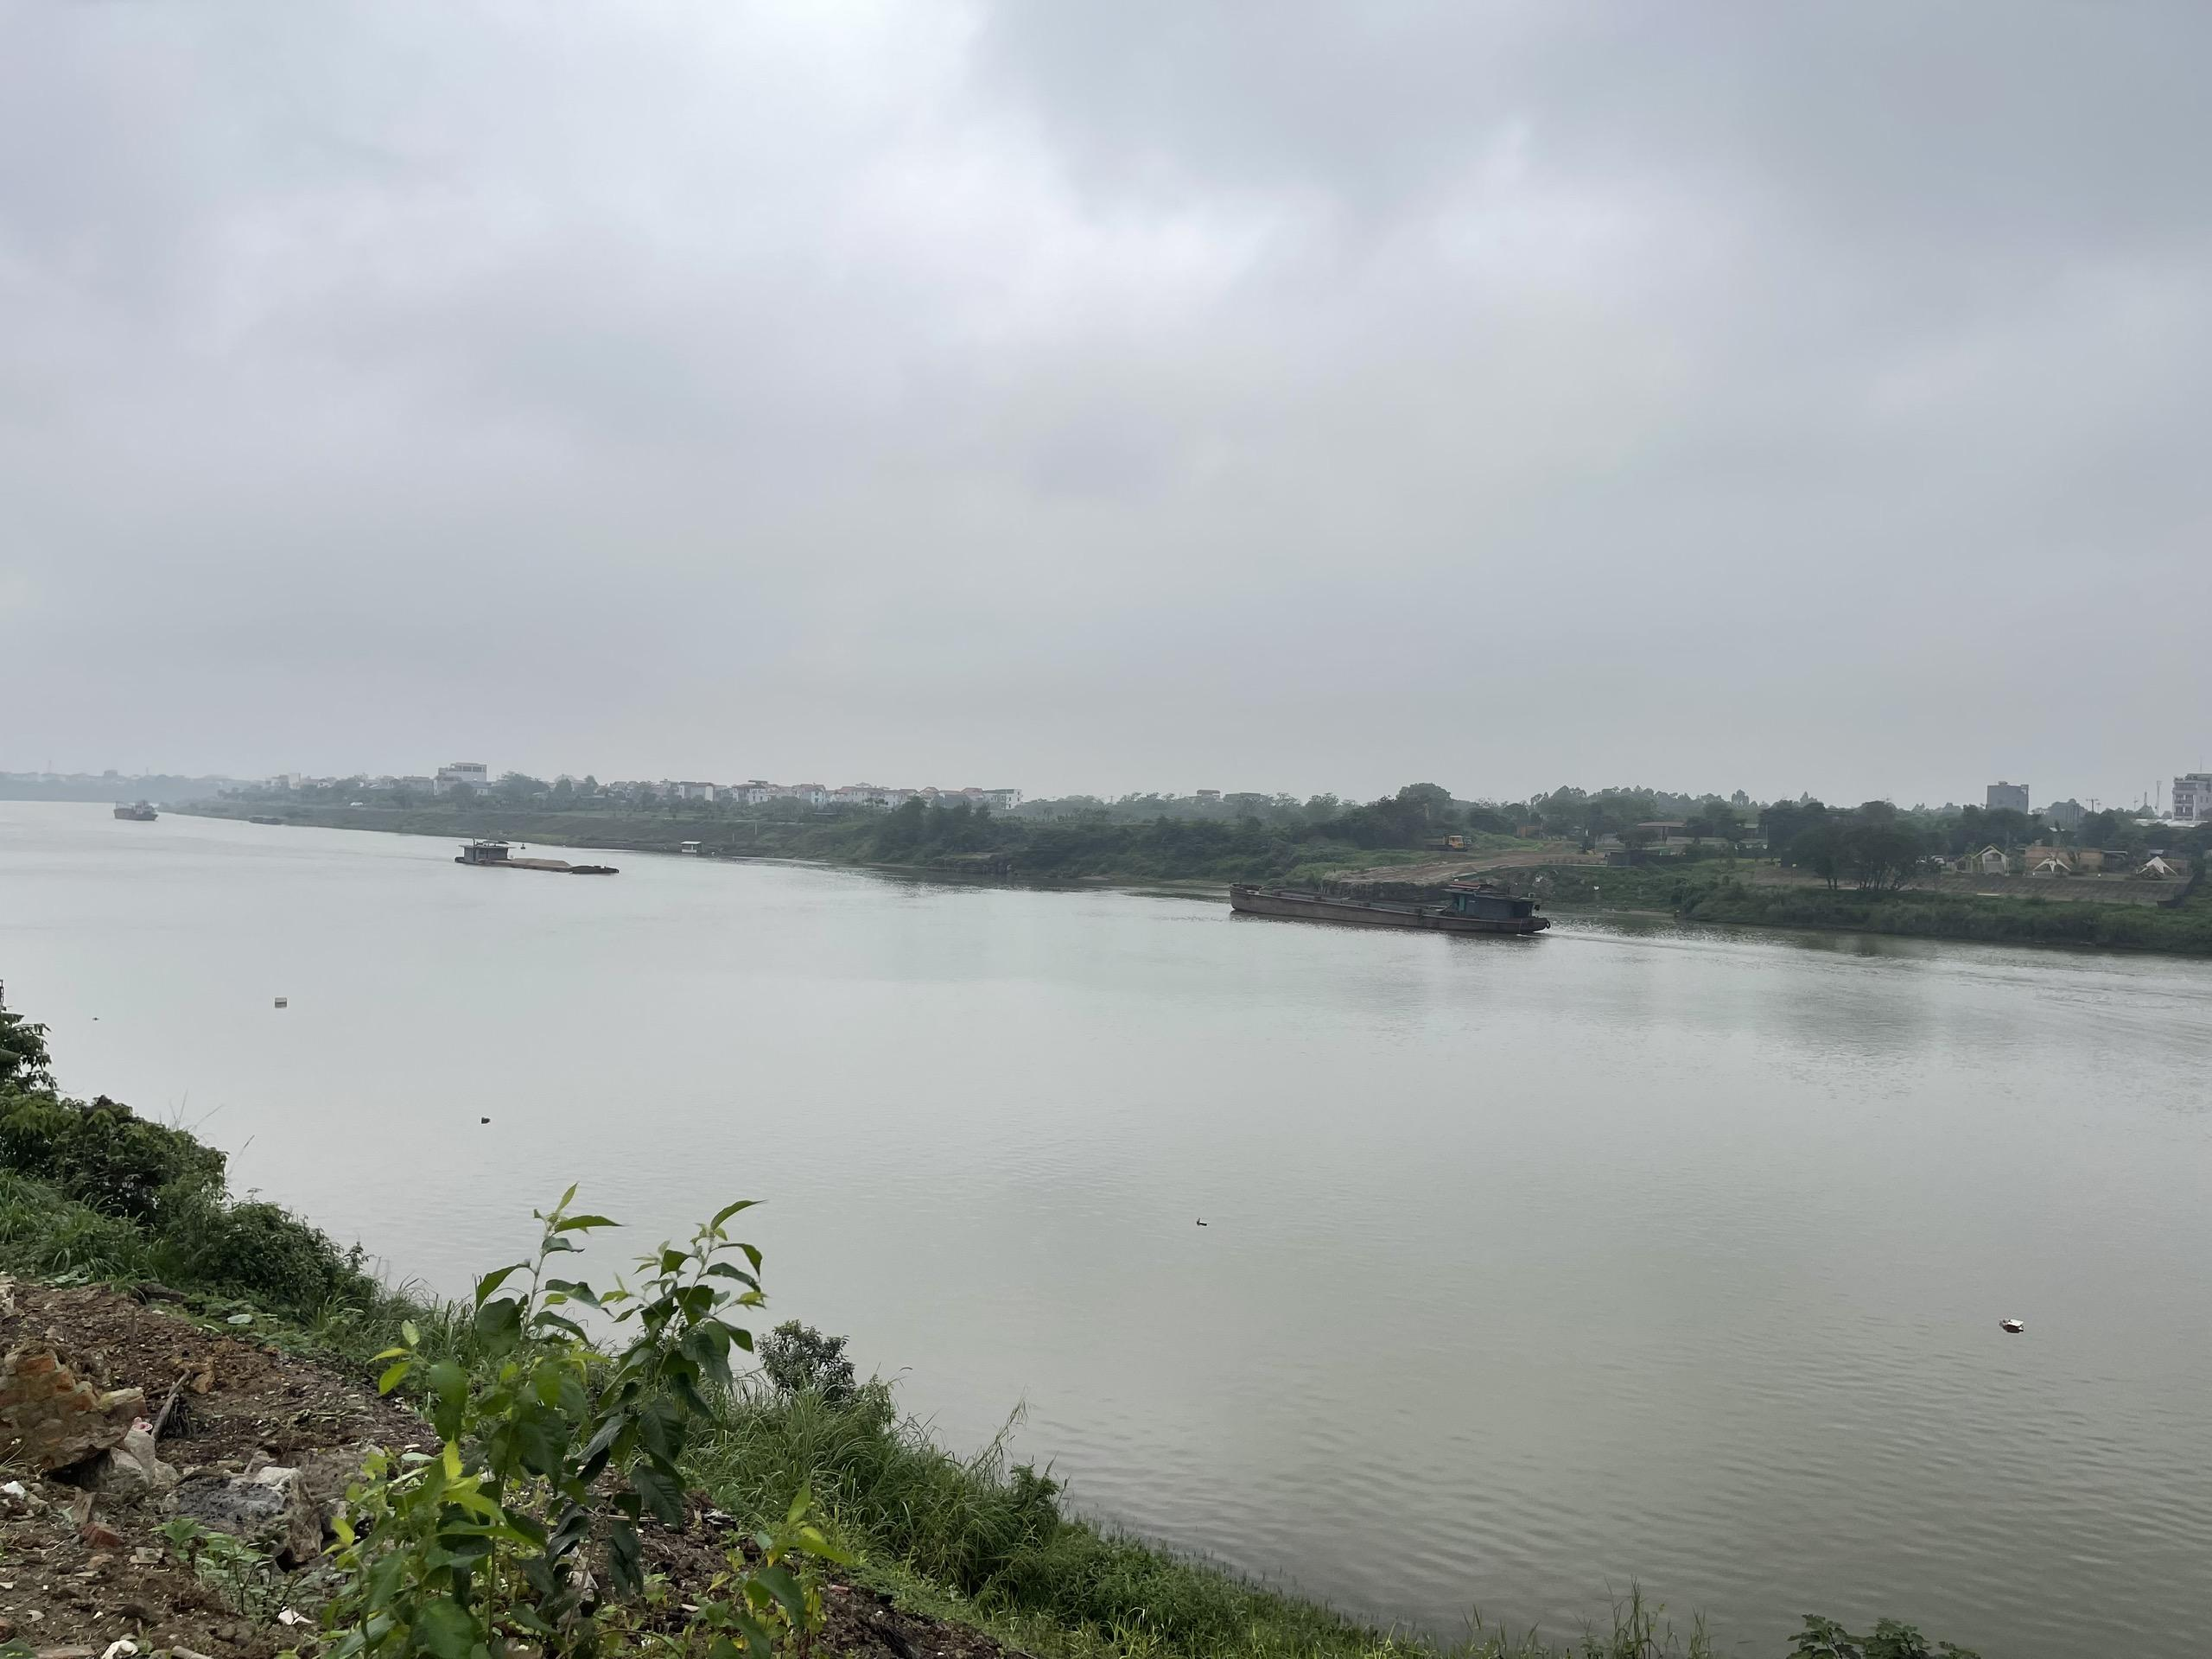Ship: (1223, 866, 1559, 946), (441, 831, 620, 884), (106, 795, 172, 835)
